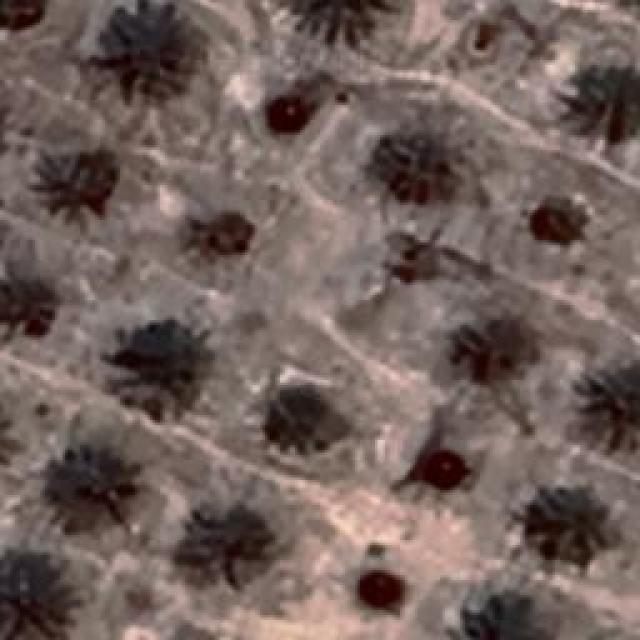PalmTree: (65, 61, 509, 605), (103, 70, 559, 223), (175, 497, 278, 595), (112, 315, 206, 420), (92, 2, 192, 100), (51, 436, 141, 532), (370, 116, 455, 209), (520, 480, 605, 572), (2, 555, 88, 640), (264, 378, 354, 454), (450, 306, 540, 382), (574, 352, 638, 452), (570, 61, 640, 149), (38, 144, 122, 216), (287, 0, 415, 40), (0, 268, 58, 348), (0, 0, 48, 34), (0, 388, 11, 480)
